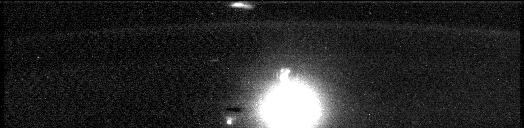positive: (276, 63, 291, 87)
